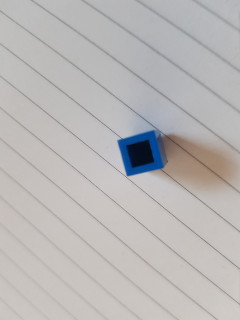1x1 blue: (115, 129, 170, 178)
